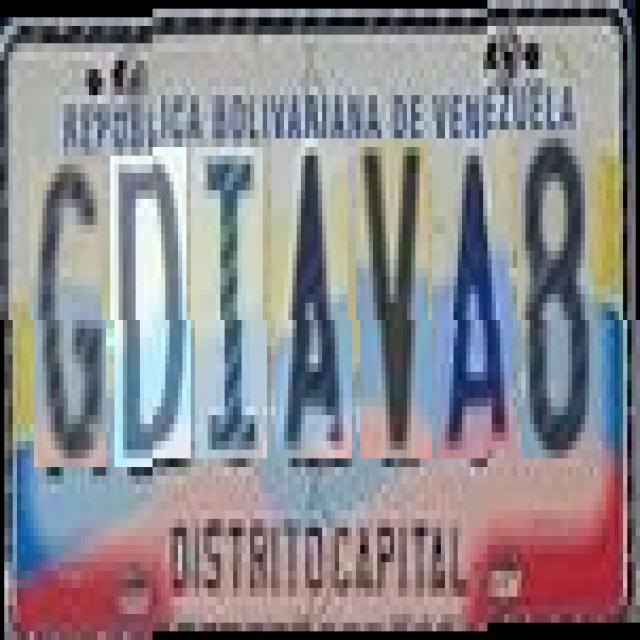8: (522, 138, 594, 467)
A: (275, 138, 352, 458), (436, 138, 513, 458)
D: (114, 146, 191, 458)
G: (34, 146, 106, 458)
I: (195, 146, 267, 458)
V: (360, 138, 432, 458)
